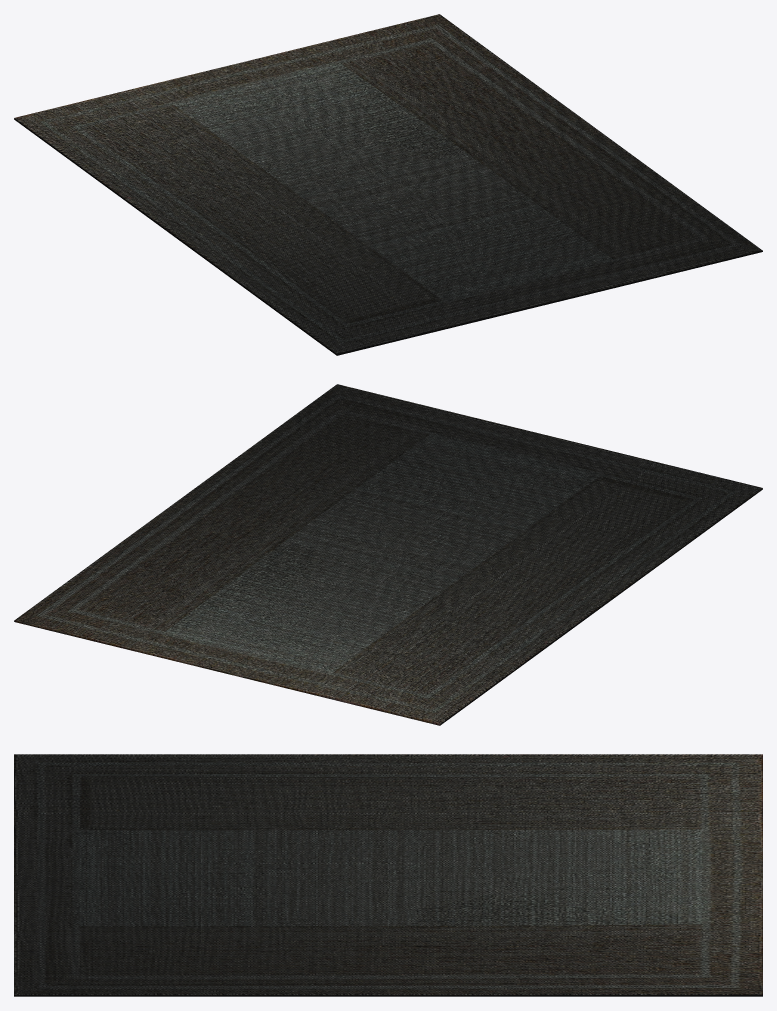
Rendered from tapete.glb.
3 renders of one model, top to bottom at view 1: azimuth 30°, elevation 25°; view 2: azimuth 150°, elevation 25°; view 3: azimuth 270°, elevation 25°, orthographic. The views are drawn at different scales.
Visible parts, largest first — view 1: Object_2; view 2: Object_2; view 3: Object_2.
Boxes of the visible parts, bbox=[...] form: Object_2: bbox=[14, 14, 762, 355]; Object_2: bbox=[14, 384, 762, 725]; Object_2: bbox=[14, 754, 762, 996].
Bounding box in the file's own units: 2281 × 8.38 × 2996.
1 material, 1 textured.
